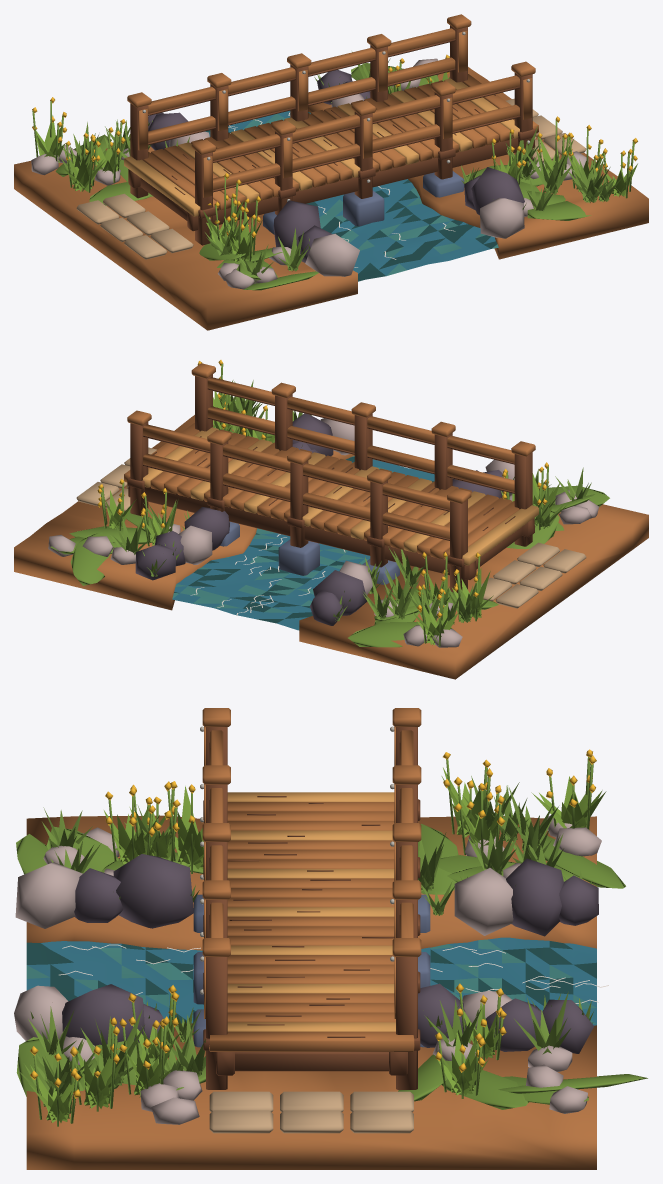
File: kit.creek-bridge-wood.lod1.glb
3 views of the same model, one above another, from view 1: azimuth 30°, elevation 25°; view 2: azimuth 150°, elevation 25°; view 3: azimuth 270°, elevation 25° (orthographic). The views are drawn at different scales.
Size of the model in its own units: 7.93 by 2.13 by 6.68.
